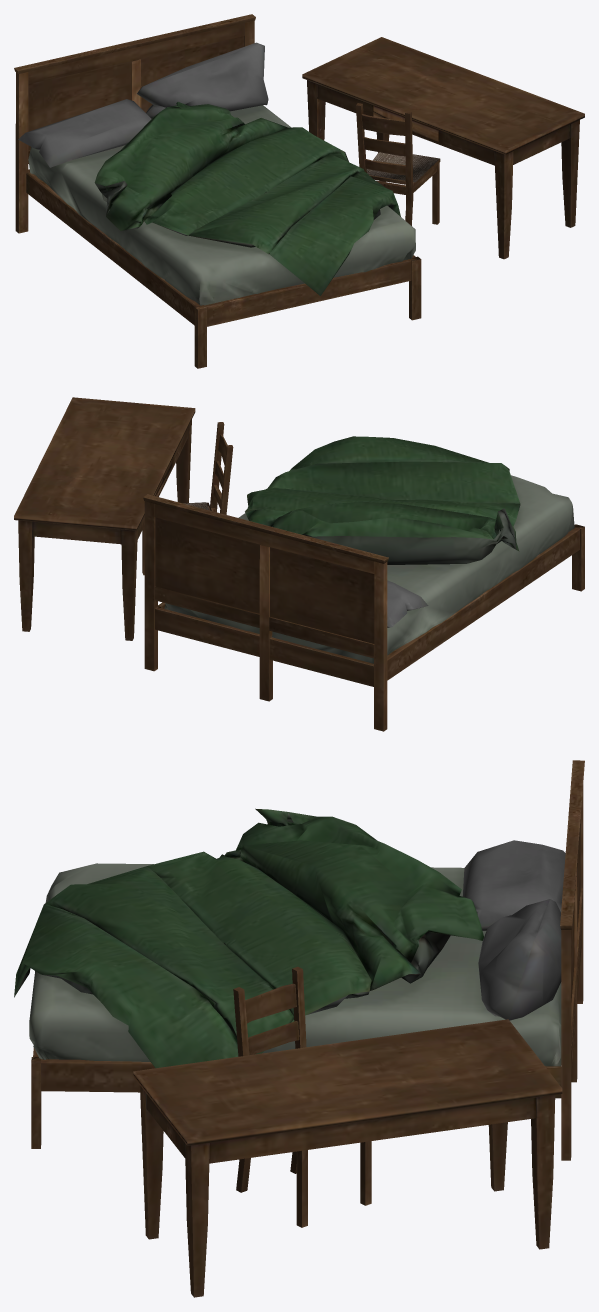
File: bed-set.lod0.glb
3 views of the same model, one above another, from view 1: azimuth 30°, elevation 25°; view 2: azimuth 150°, elevation 25°; view 3: azimuth 270°, elevation 25° (orthographic). The views are drawn at different scales.
Visible parts, largest first — view 1: SM_Bed_01_1_0; view 2: SM_Bed_01_1_0; view 3: SM_Bed_01_1_0.
Part boxes in pixels (<box>): SM_Bed_01_1_0: <box>14,14,584,368</box>; SM_Bed_01_1_0: <box>14,397,584,731</box>; SM_Bed_01_1_0: <box>14,760,584,1297</box>.
Size of the model in its own units: 3.59 by 1.24 by 2.72.
Materials: 1 (1 with a texture image).
